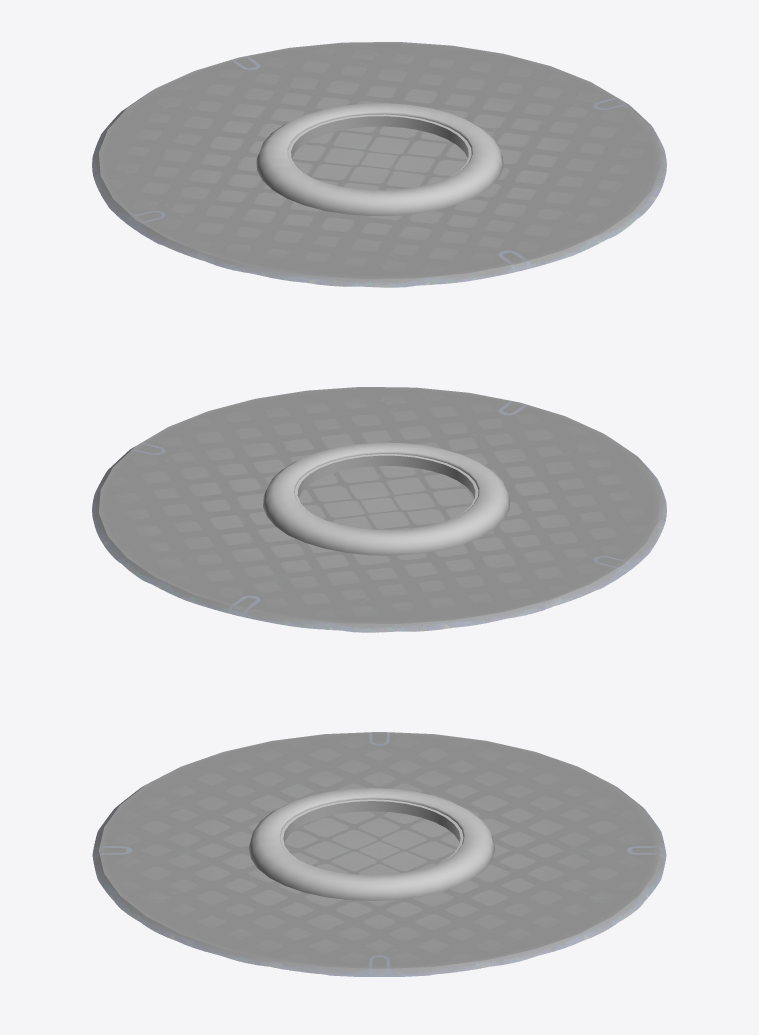
File: pref_TPC_v2_NeutralScoreArea03_winter_purple_static_lv3.fbx
3 renders of one model, top to bottom at view 1: azimuth 30°, elevation 25°; view 2: azimuth 150°, elevation 25°; view 3: azimuth 270°, elevation 25°, orthographic.
Visible parts, largest first — view 1: sm_prop_platform06a_lv3, sm_prop_platform06b_lv3; view 2: sm_prop_platform06a_lv3, sm_prop_platform06b_lv3; view 3: sm_prop_platform06a_lv3, sm_prop_platform06b_lv3.
Boxes of the visible parts, box(x1,y1,x2,y2) form: sm_prop_platform06a_lv3: box(92, 42, 666, 287); sm_prop_platform06b_lv3: box(256, 103, 503, 216); sm_prop_platform06a_lv3: box(92, 387, 666, 632); sm_prop_platform06b_lv3: box(263, 442, 510, 555); sm_prop_platform06a_lv3: box(92, 732, 666, 976); sm_prop_platform06b_lv3: box(248, 788, 495, 900).
Size of the model in its own units: 7.46 by 0.3252 by 7.46.
